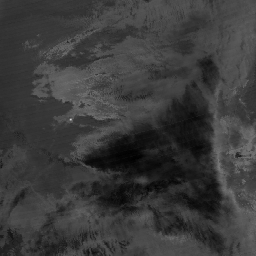Target: (67, 117, 72, 122)
